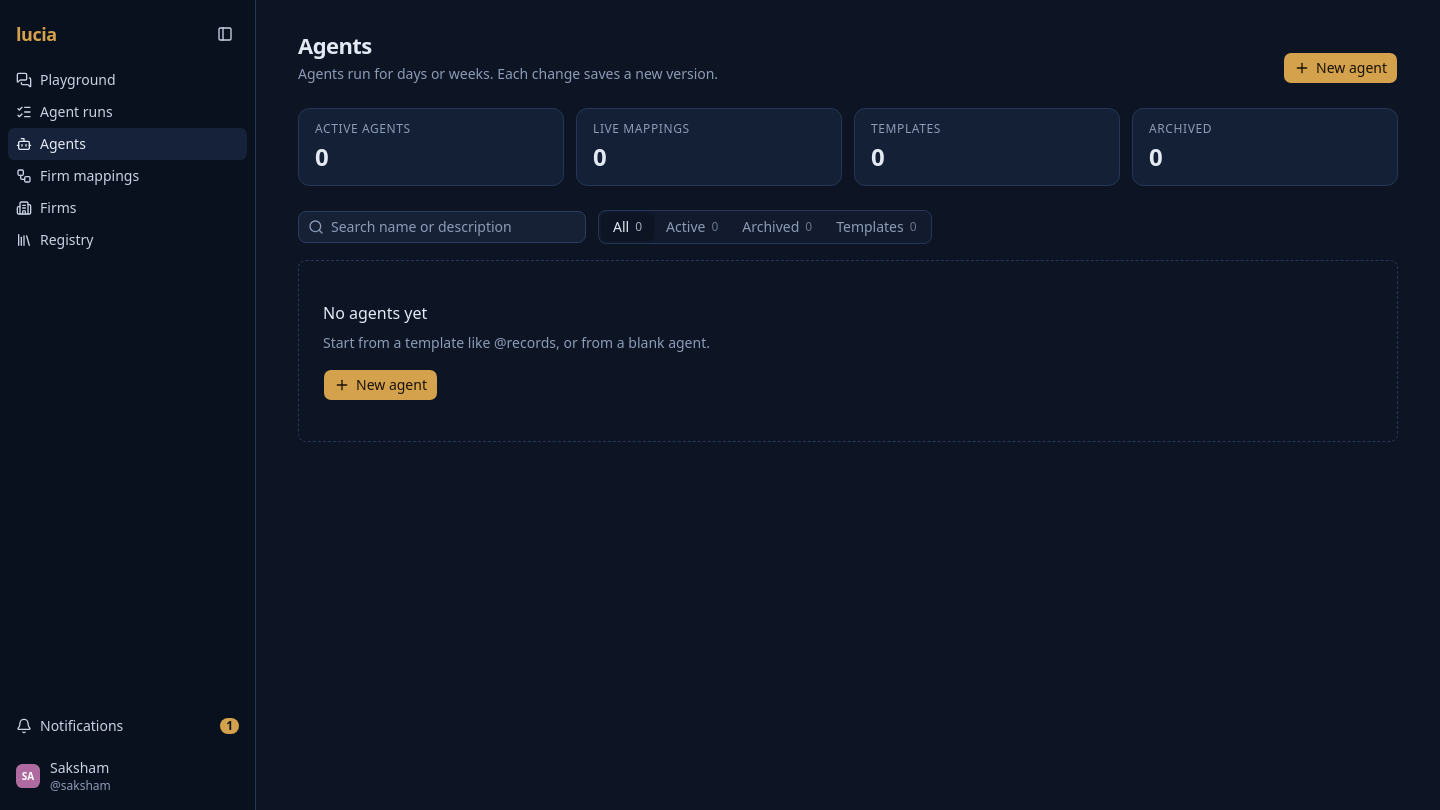
notification bell › marks all read
Step 1. Click the button "Notifications 1" → point(128, 726), box [8,710,247,742]
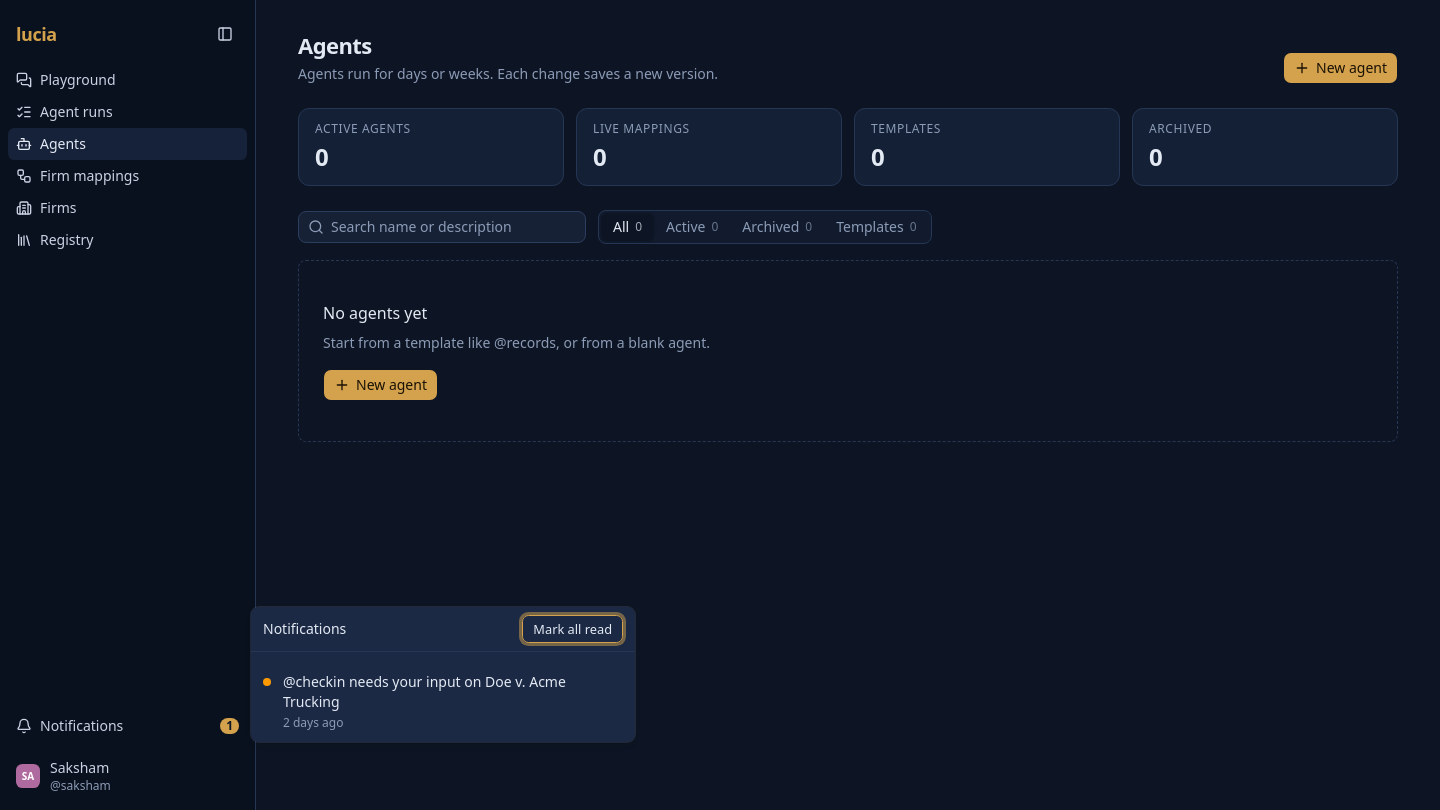
Step 2. Click the button "Mark all read" → point(573, 629), box [522,615,623,643]
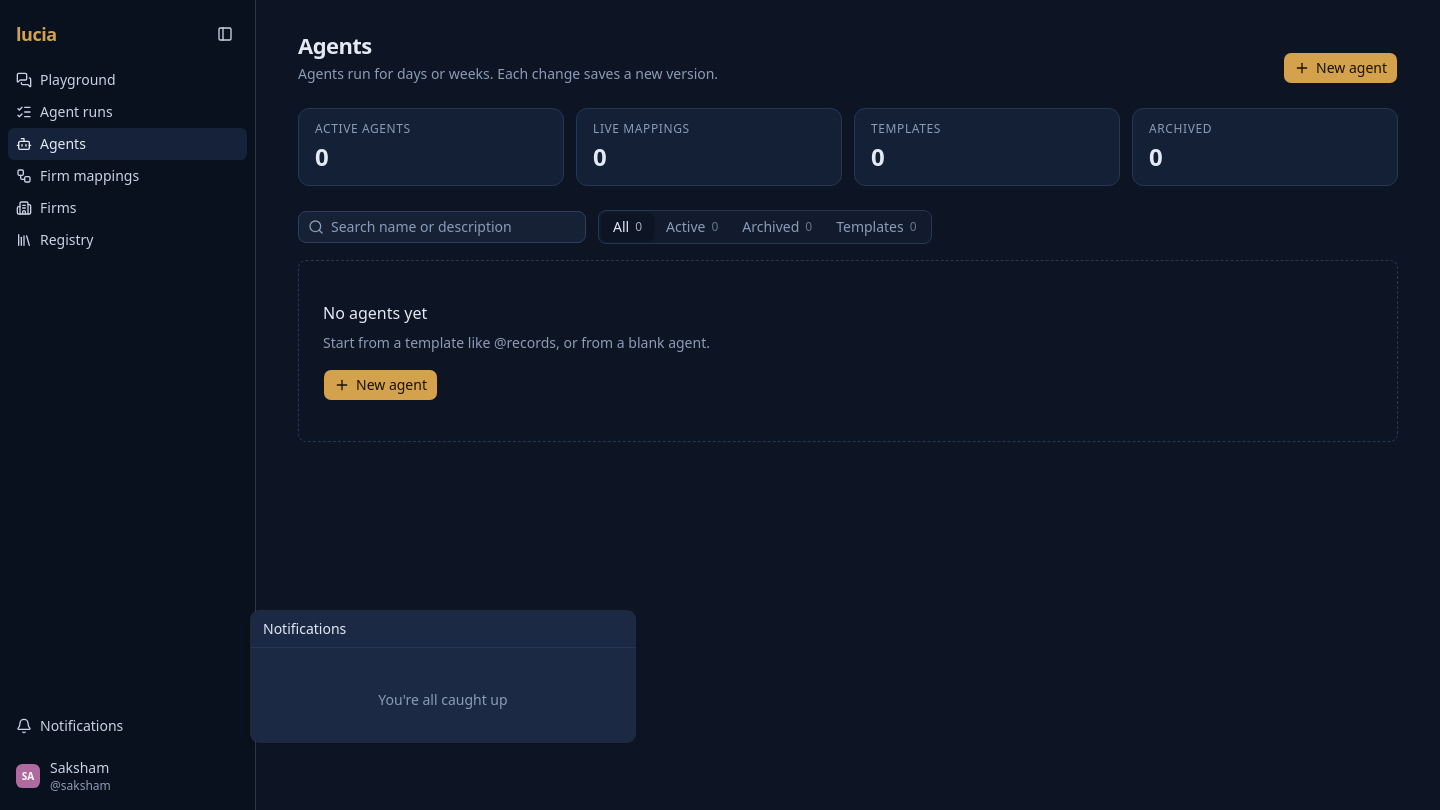
Expected: the text "Notifications" no longer shows "1"
